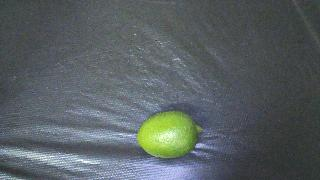LOCAL: (137, 111, 202, 158)
